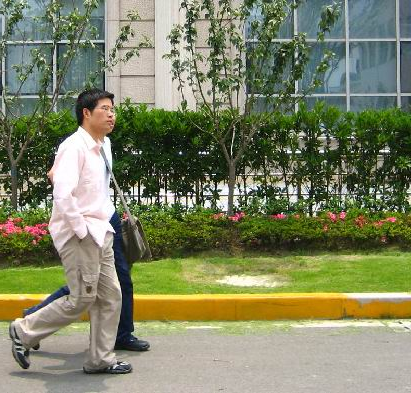pedestrian: (10, 89, 131, 374)
